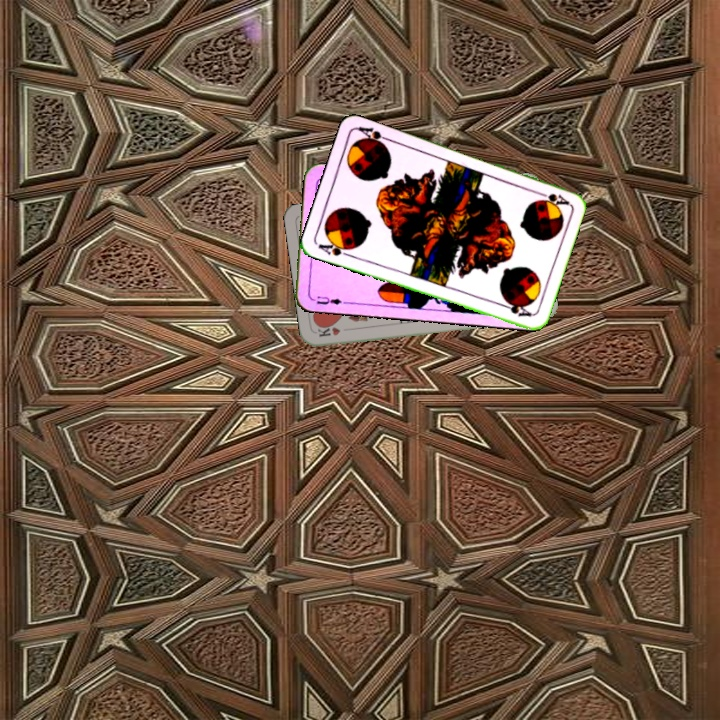EU: (308, 292, 349, 307)
HK: (314, 324, 342, 339)
SA: (314, 236, 356, 260), (532, 187, 571, 207)
